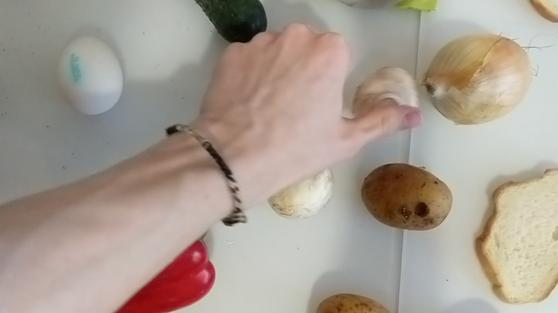champignon: (347, 58, 422, 127), (265, 169, 336, 219)
cucumber: (201, 1, 268, 42)
egg: (56, 33, 127, 116)
onion: (422, 34, 540, 127)
pepper: (128, 238, 215, 309)
potato: (364, 159, 456, 238)
white_bread: (471, 160, 558, 308)
